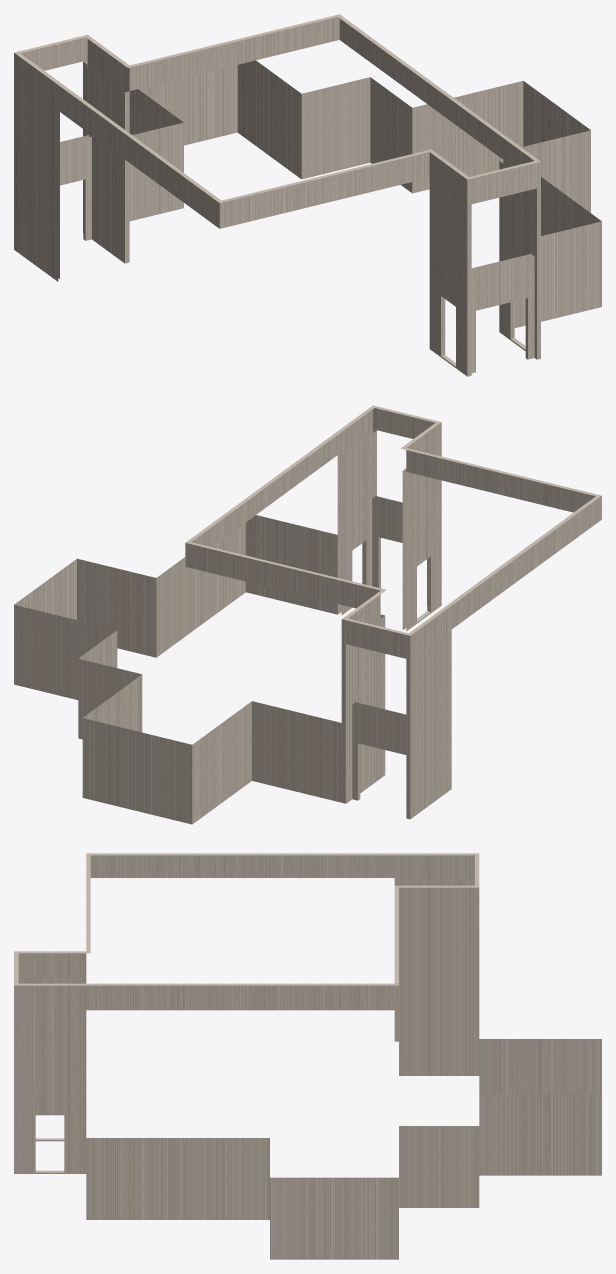
File: exteriorFacade.glb
3 views of the same model, one above another, from view 1: azimuth 30°, elevation 25°; view 2: azimuth 150°, elevation 25°; view 3: azimuth 270°, elevation 25° (orthographic). The views are drawn at different scales.
Parts seen in each view (by area): view 1: exteriorFacade; view 2: exteriorFacade; view 3: exteriorFacade.
Part boxes in pixels (<box>): exteriorFacade: <box>14,14,601,376</box>; exteriorFacade: <box>14,405,601,824</box>; exteriorFacade: <box>14,853,601,1259</box>.
Size of the model in its own units: 57.1 by 23 by 65.1.
1 material, 1 textured.
